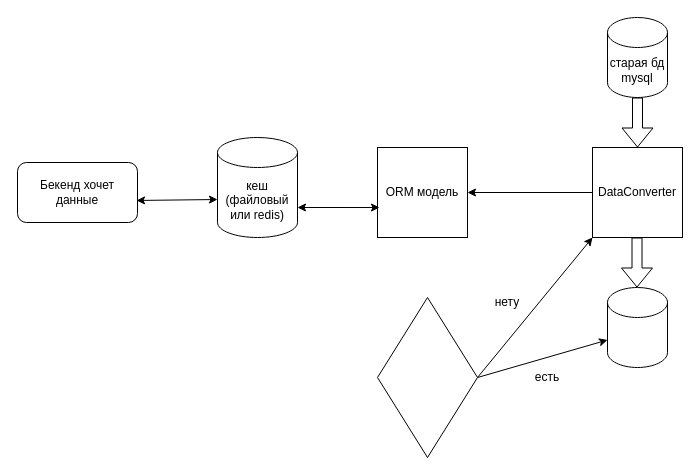
Some shapes in this 700 by 475 pixel diagram are drawn without their labels. The shapes that lost their labels are listed below. From the top down, each one's centre as x and y in pixels, then its label:
At point (637, 327): "новая бд mysql".
At point (427, 377): "есть свежие данные в новой бд?".
